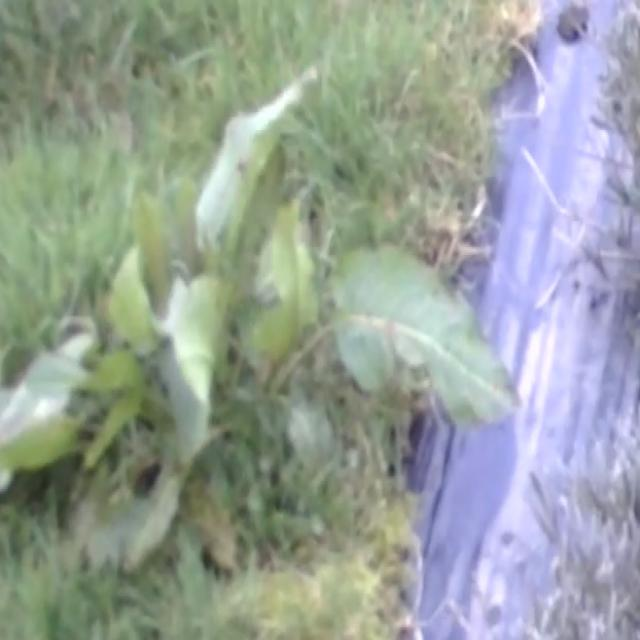organic waste: (0, 92, 511, 515)
